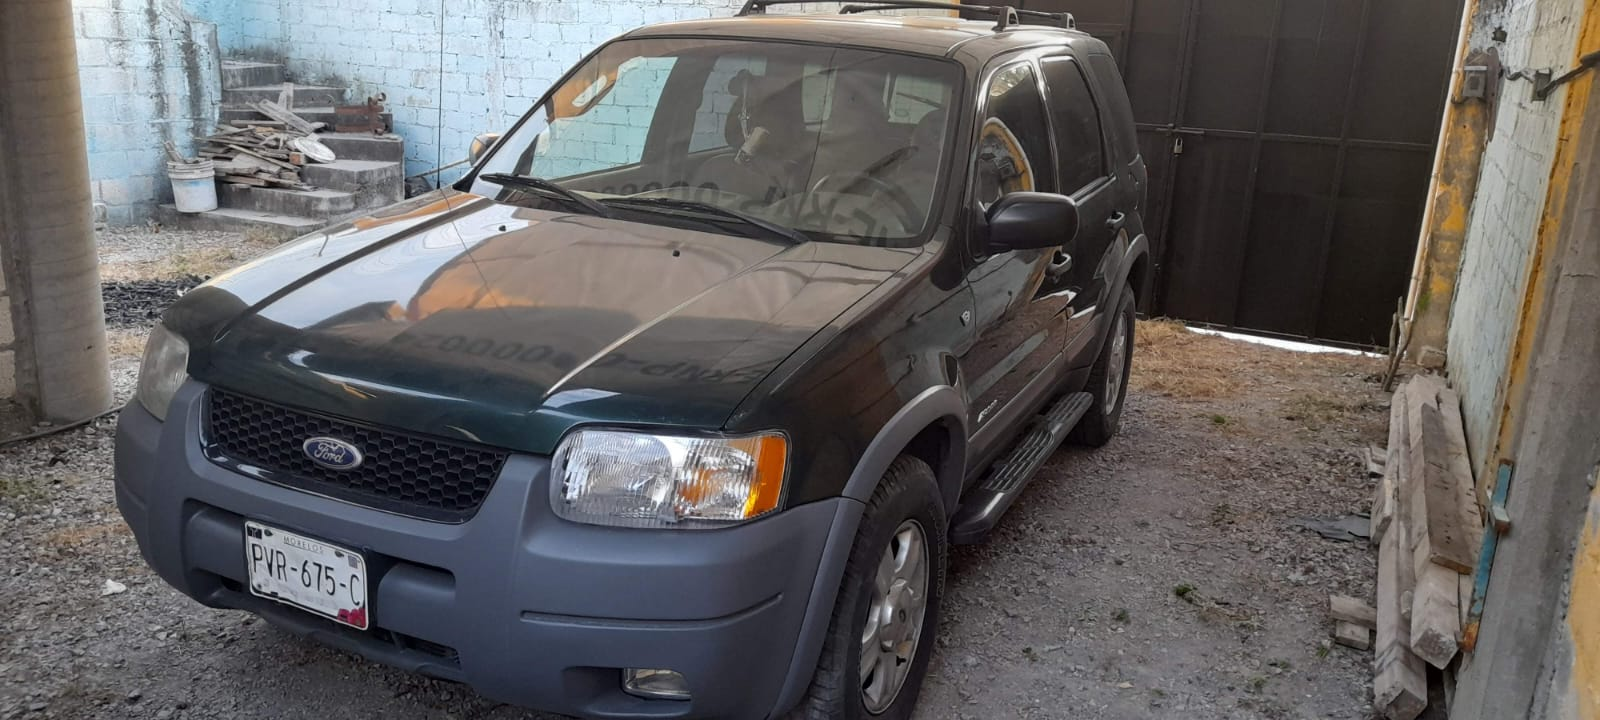Auto: (109, 1, 1187, 720)
